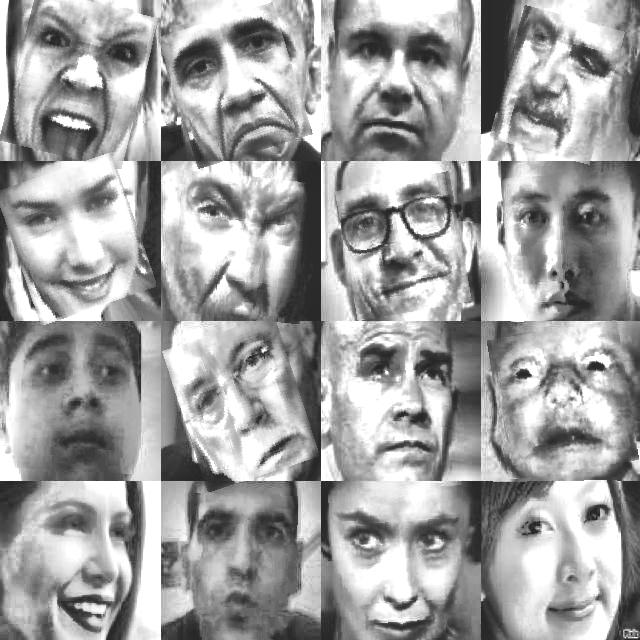angry: (7, 0, 150, 163), (330, 487, 469, 640), (172, 173, 310, 321), (336, 14, 464, 156), (187, 494, 297, 640)
fear: (492, 325, 634, 475), (14, 325, 138, 473)
happy: (4, 160, 147, 318), (493, 477, 618, 640), (26, 484, 147, 640), (497, 10, 617, 160), (341, 175, 467, 317)
neutral: (172, 322, 310, 485)
sad: (167, 10, 305, 162), (504, 173, 625, 321), (349, 325, 456, 473)
